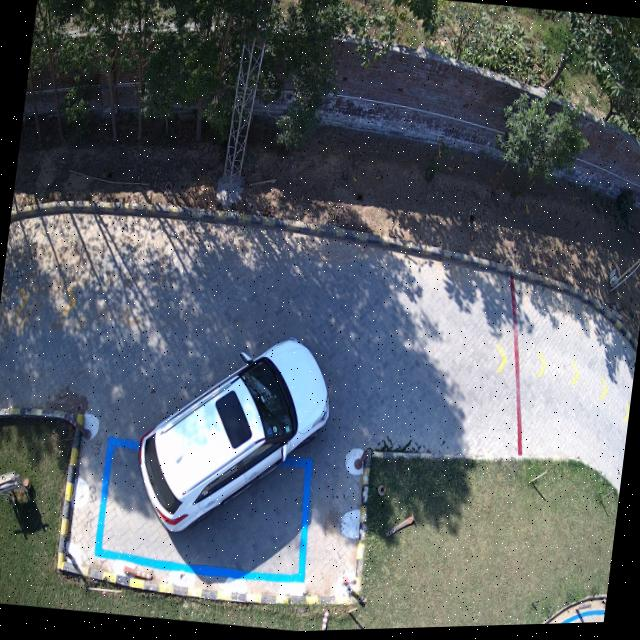car: (138, 340, 329, 532)
